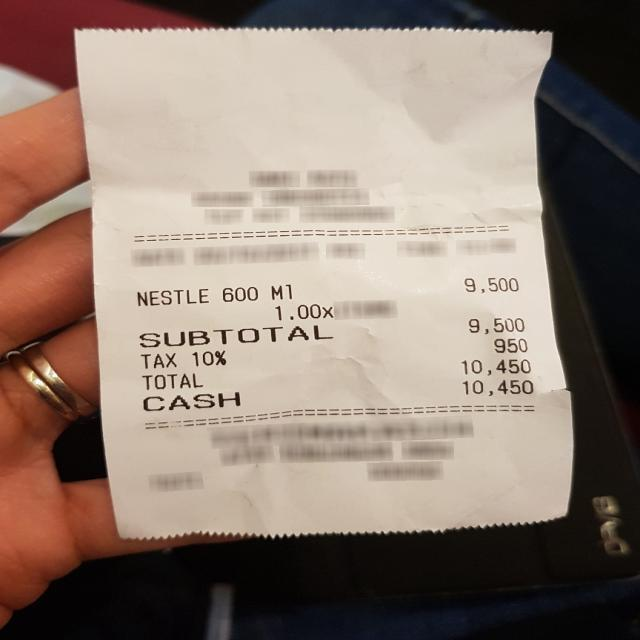kertas: (74, 2, 579, 551)
